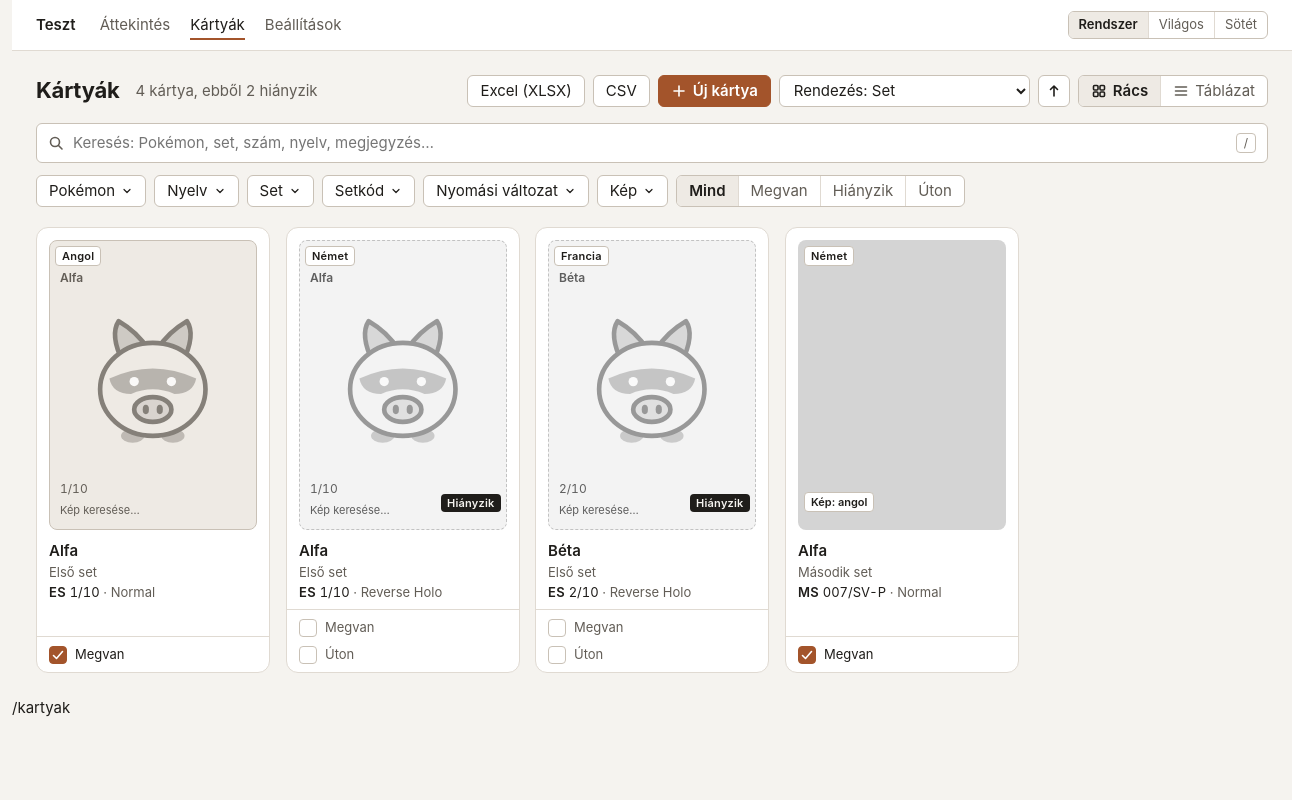
keresés és szűrés (S-12 … S-16) › setkód szűrő: a kód mellett a setnév, címke, URL; a kód a kártyán is látszik
Expected: the element with class "tile-meta" reads "ES 1/10 · Normal", [49,583,155,599]
What coordinates should you click on to do the following:
click the button "Setkód"
I would click on:
 (368, 191)
Its box is [322,175,415,207].
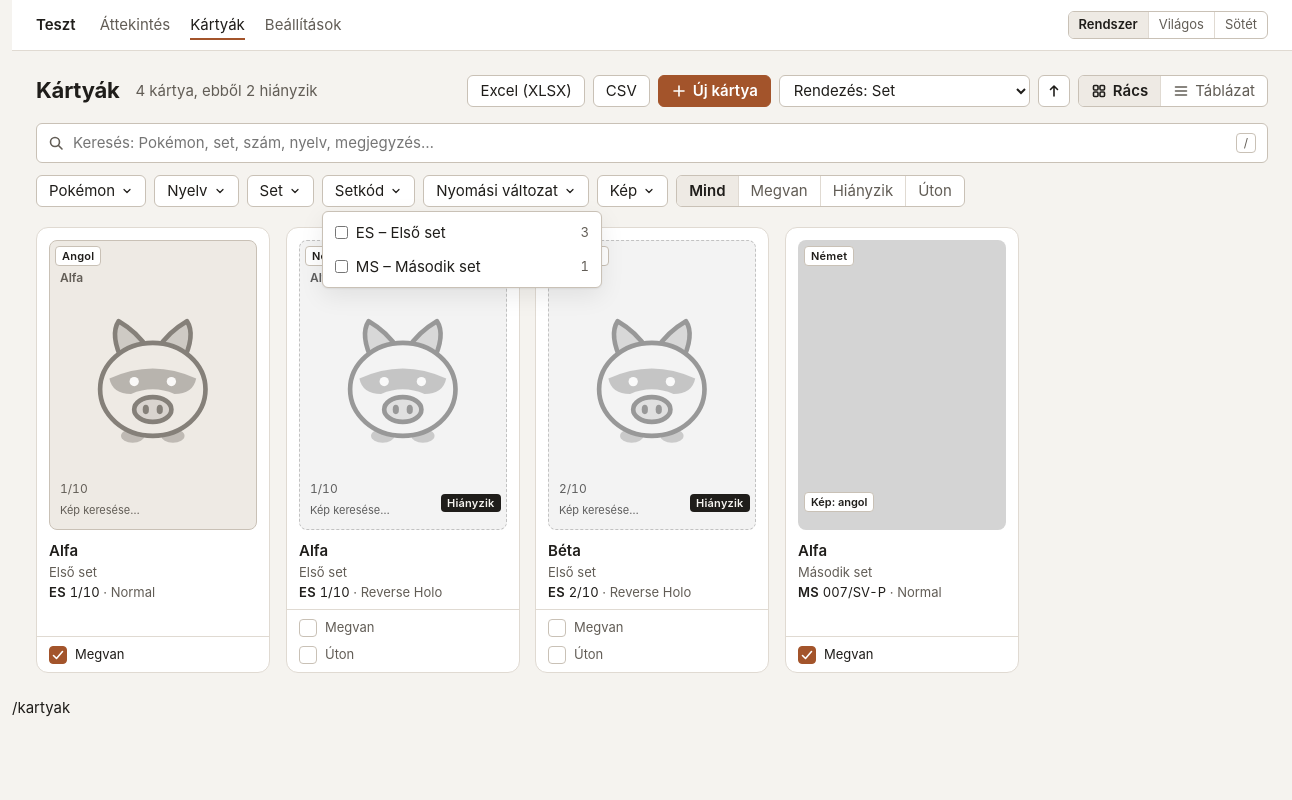
What coordinates should you click on to do the following:
click the checkbox labelled "MS – Második set 1"
I would click on:
 (341, 266)
Its box is [335,260,348,273].
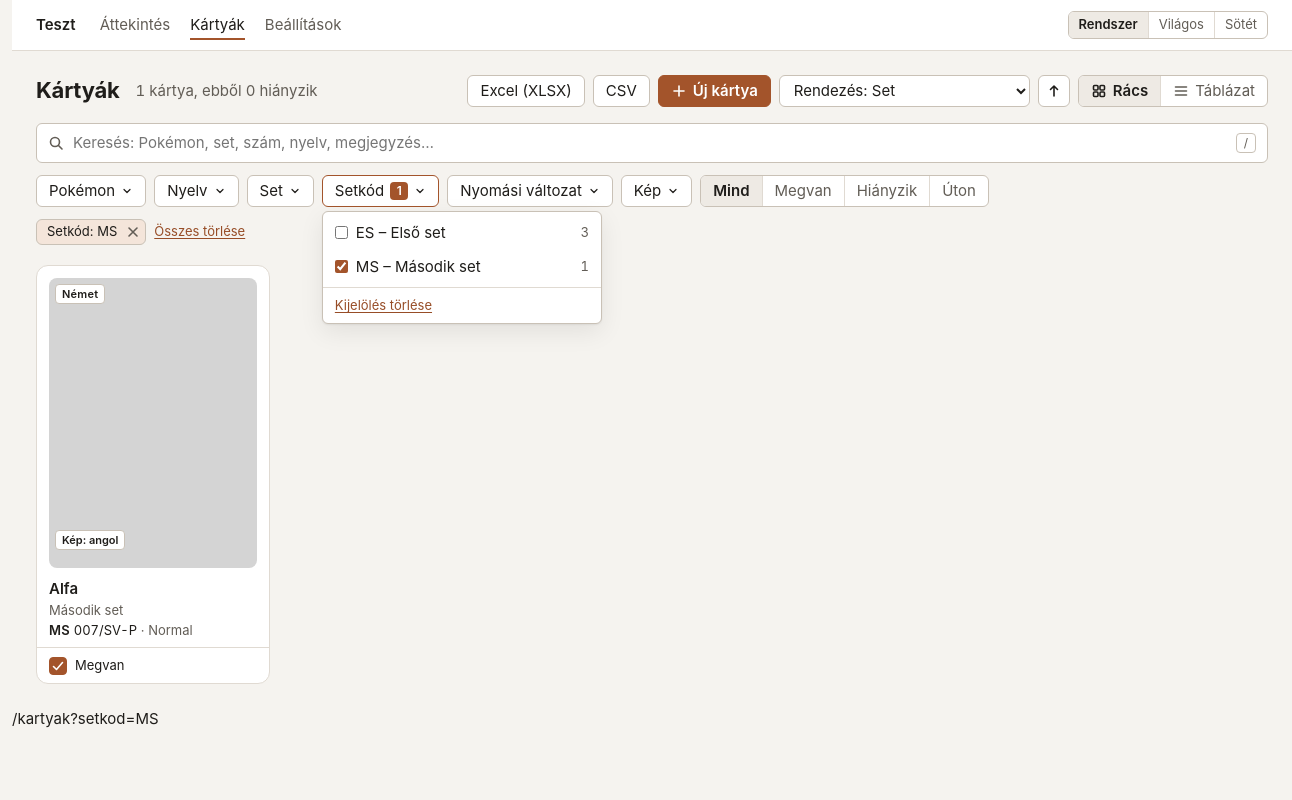
Expected: the text with test id "location" reads "/kartyak?setkod=MS", [12,709,159,728]
Expected: the text with test id "result-count" reads "1 kártya, ebből 0 hiányzik", [136,81,318,100]
Expected: the button named "Szűrő törlése: Setkód: MS" is shown, [121,220,145,244]
